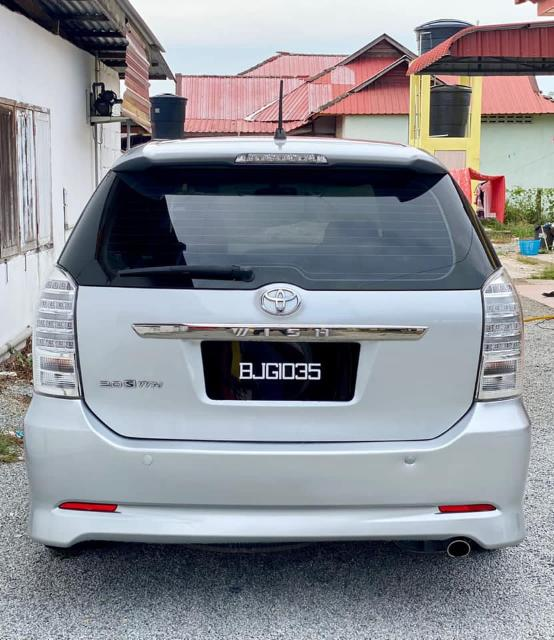License_Plate: (216, 348, 350, 396)
car: (35, 135, 538, 561)
